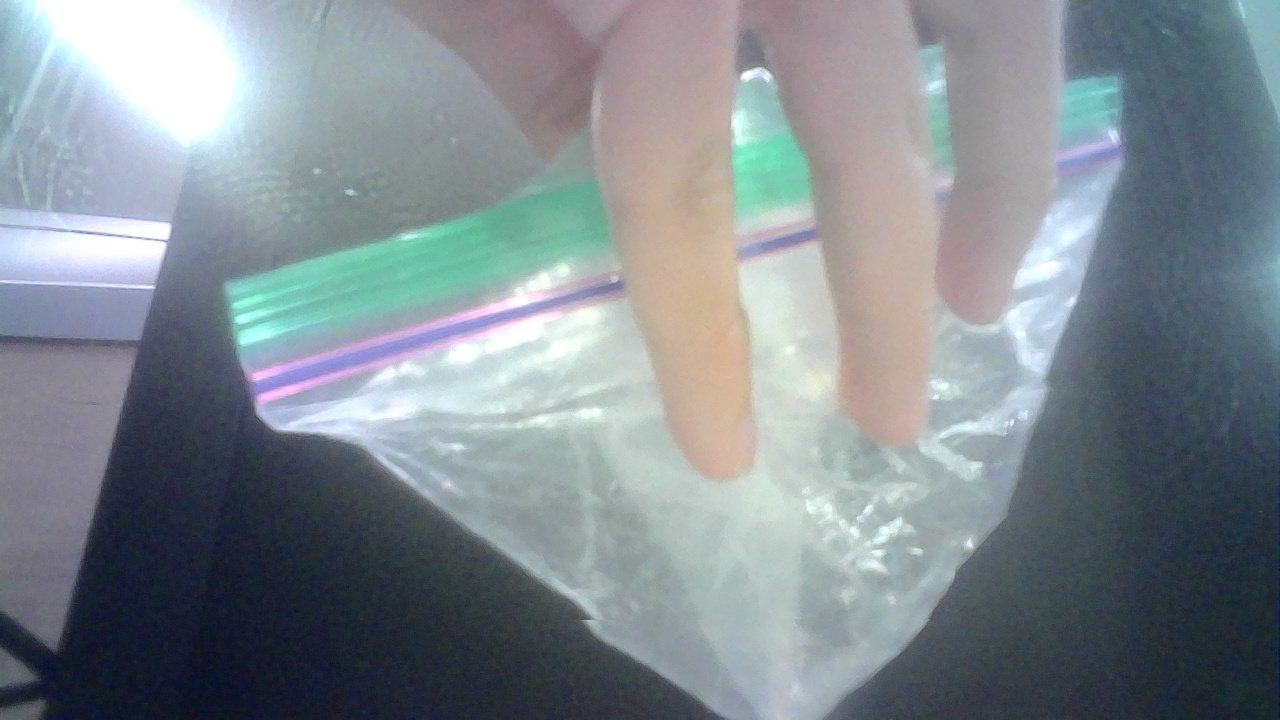Plastic_Recycling: (229, 37, 1126, 720)
